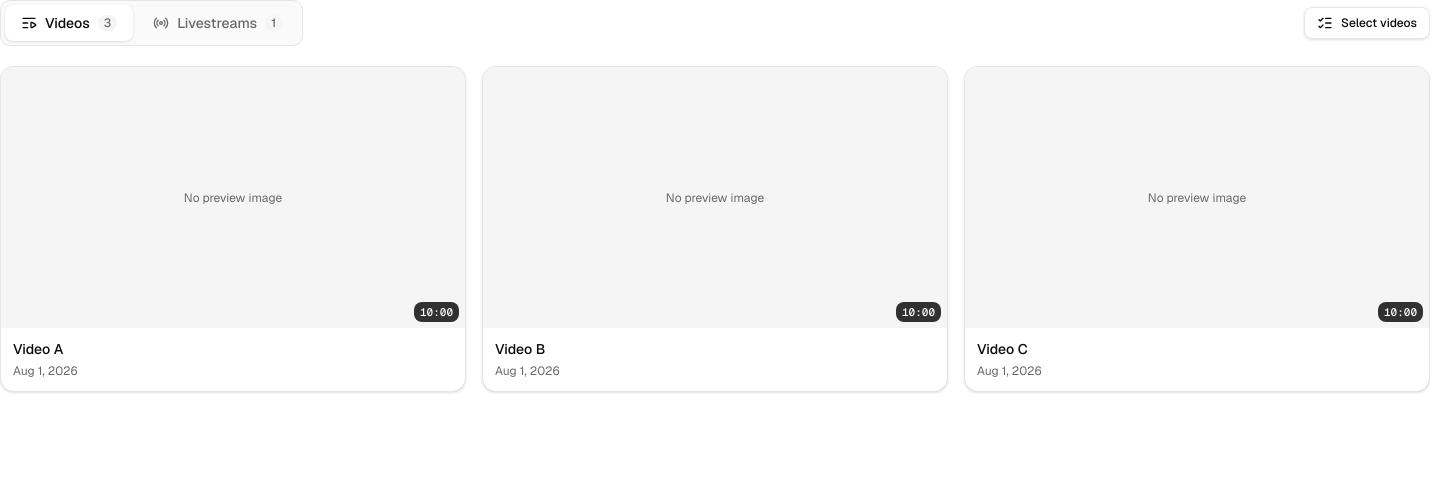
Test: SelectableFeed › clear empties the selection and hides the bar
What coordinates should you click on to do the following:
click the button "Select videos"
I would click on:
 (1367, 23)
Its box is [1304,7,1430,39].
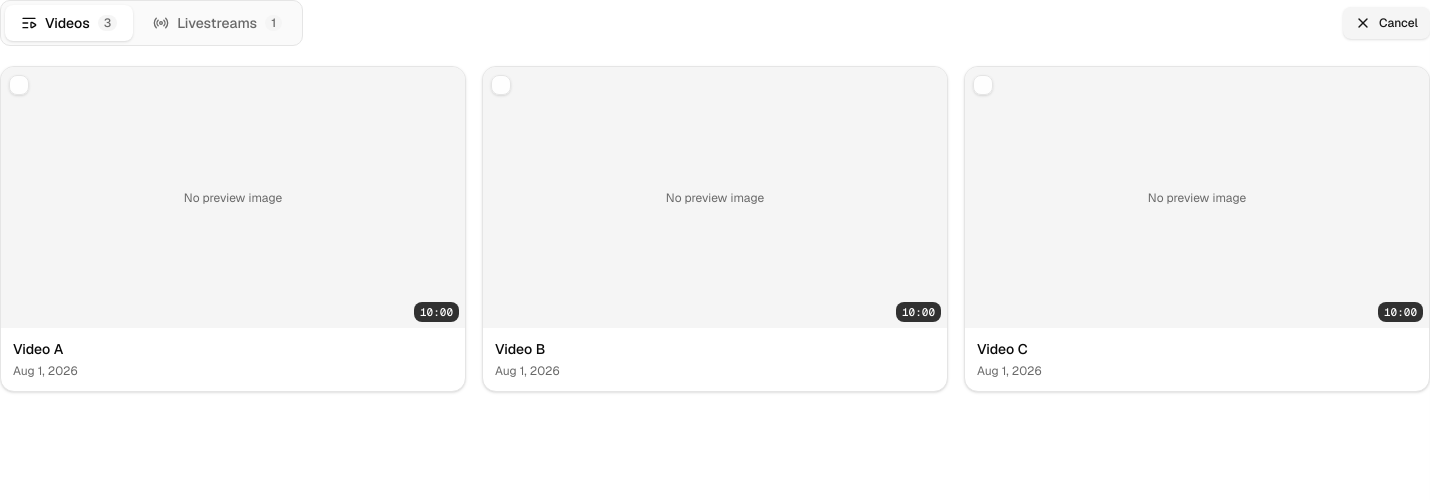
What coordinates should you click on to do the following:
click the checkbox named "Select Video A"
I would click on:
 (19, 85)
Its box is [9,75,29,95].
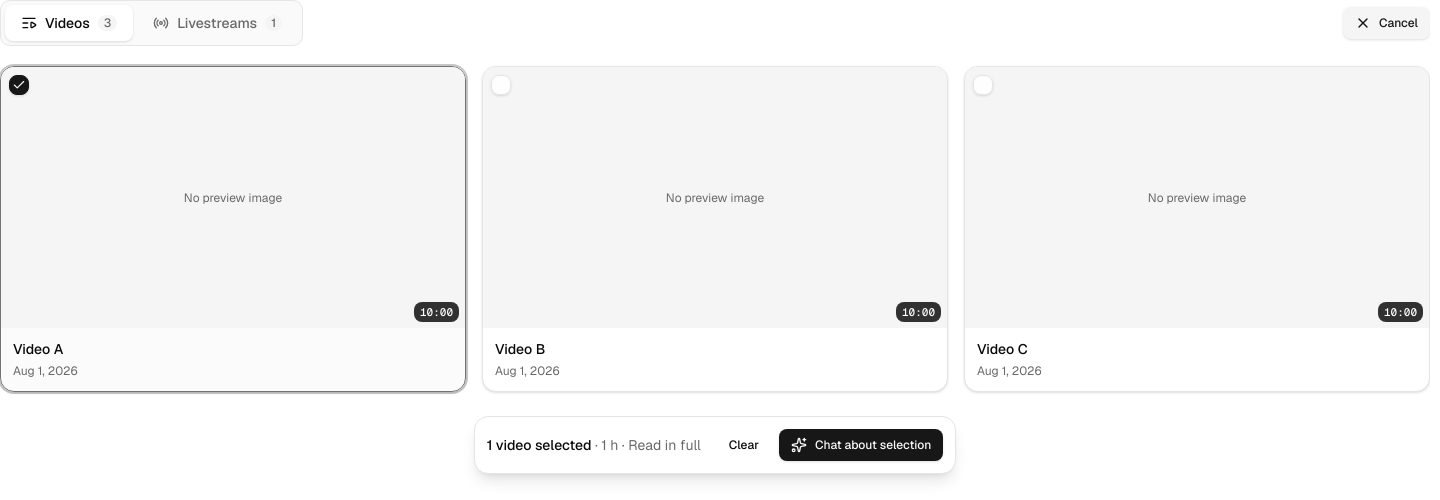
What coordinates should you click on to do the following:
click the checkbox named "Select Video C"
I would click on:
 (983, 85)
Its box is [973,75,993,95].
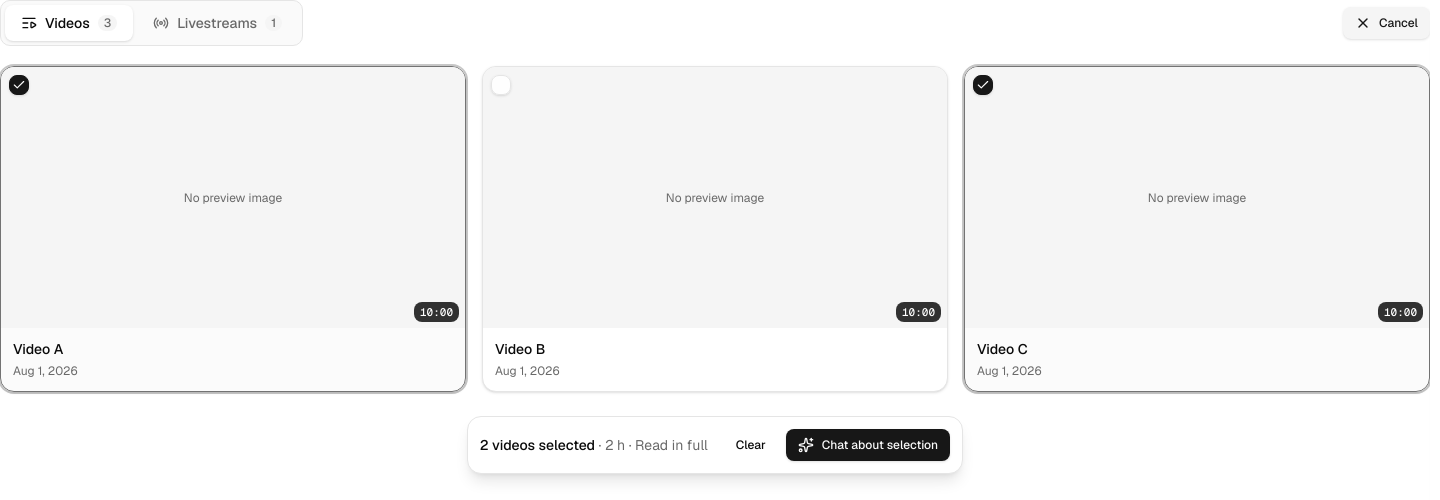
Now the text "2 videos selected" is shown, box [480,436,595,454]
What coordinates should you click on to do the following:
click the button "Clear"
I would click on:
 (751, 445)
Its box is [724,429,778,461].
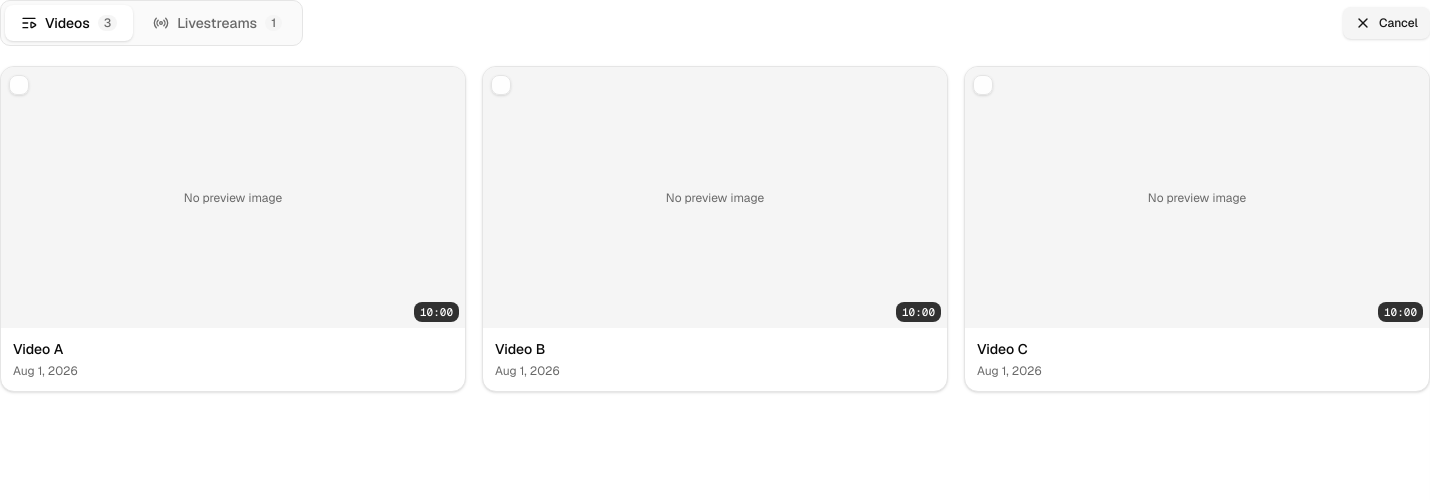
Now the checkbox named "Select Video A" is not checked, box [9,75,29,95]
Now the text "selected" is gone
